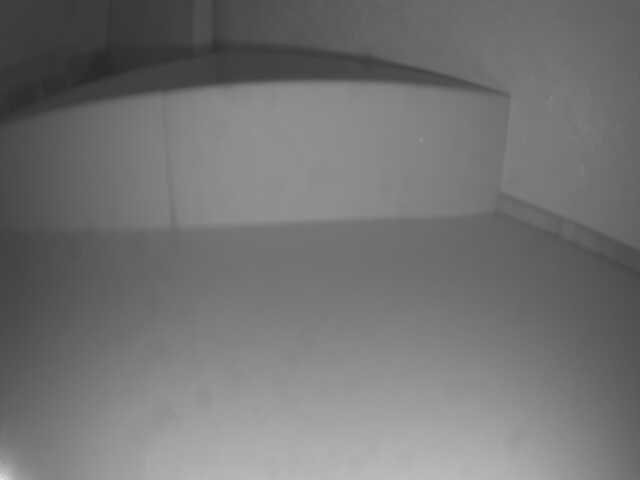Red: (3, 91, 514, 236)
